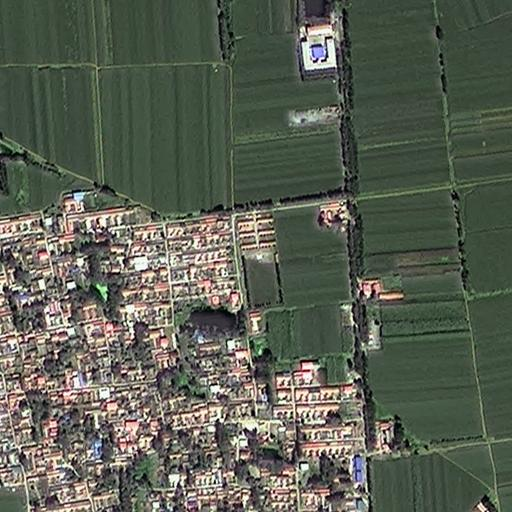school: (232, 206, 282, 312)
